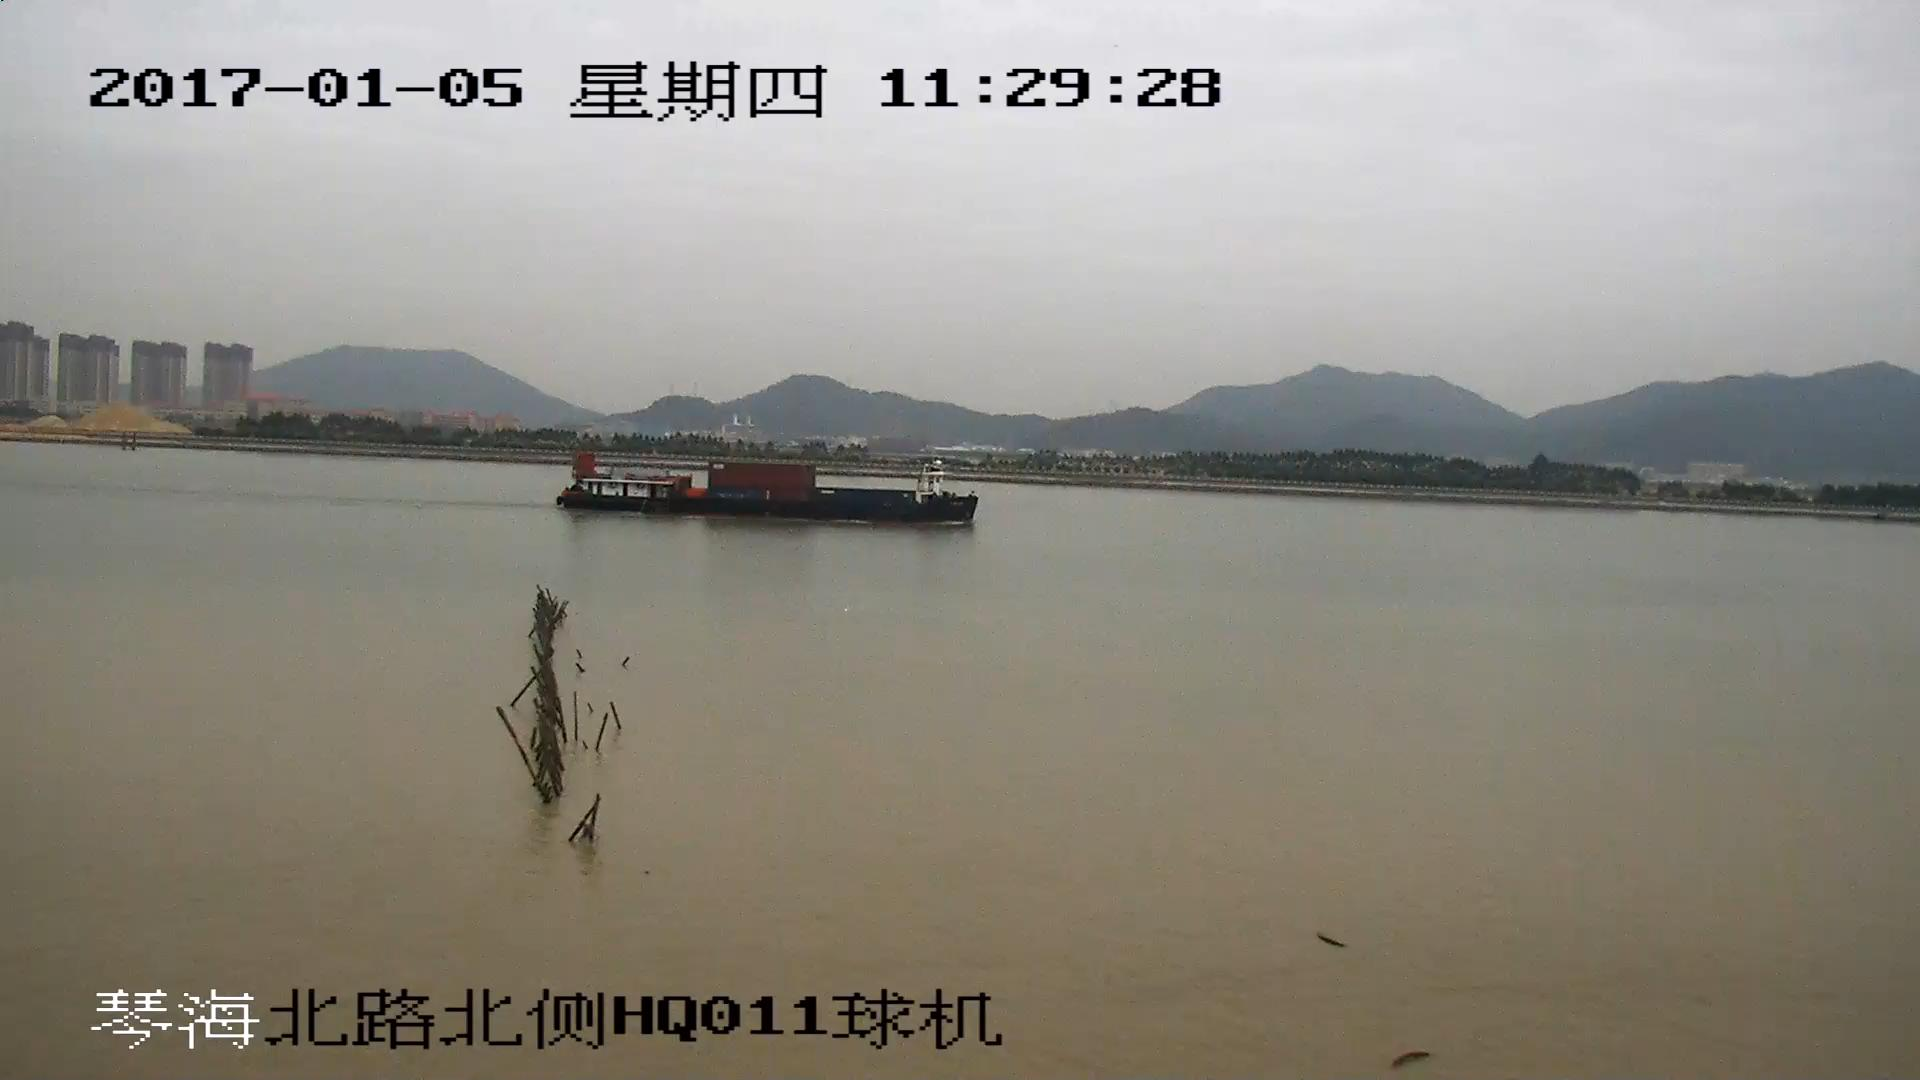container ship: (561, 452, 980, 526)
